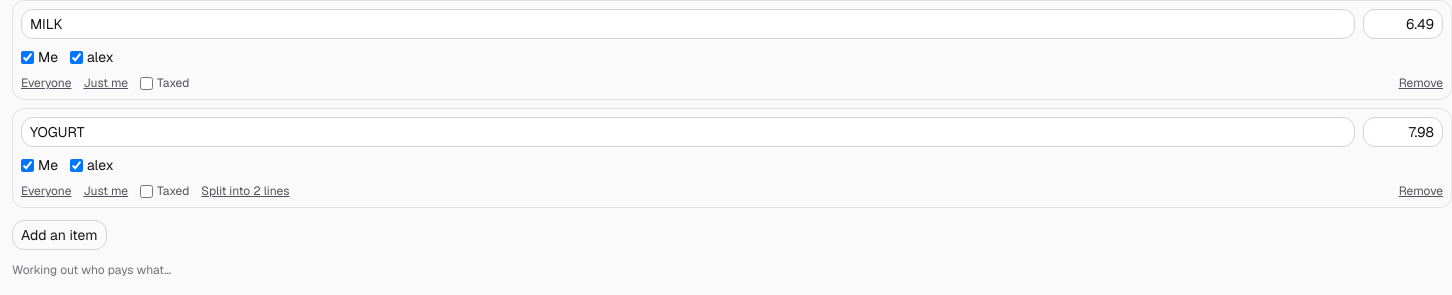
Test: an item with nobody ticked is pointed out instead of a summary
Click the checkbox named "Me shares item 1" at (28, 57), box [21,50,34,64]
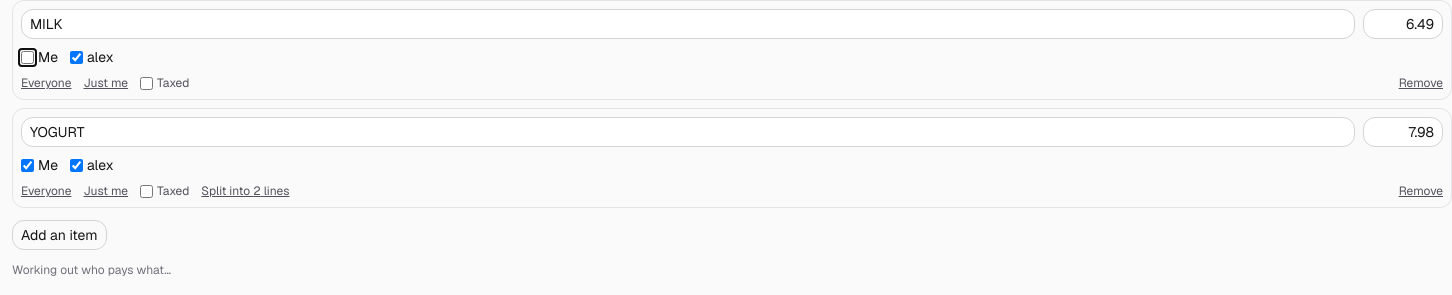
Click the checkbox named "alex shares item 1" at (76, 57), box [70,50,83,64]
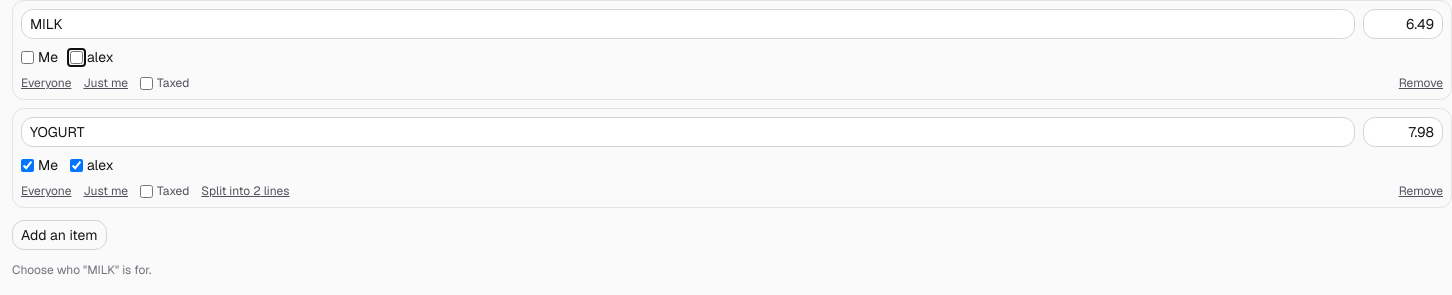
Result: the text "Choose who \"MILK\" is for." is shown at [12,262,151,278]
